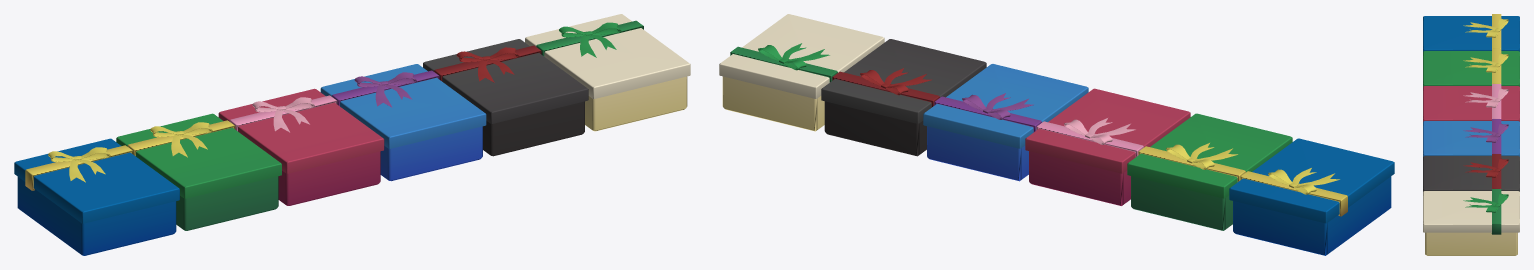
File: Playtime_Product_Box_Model.fbx
3 views of the same model, side by side, from view 1: azimuth 30°, elevation 25°; view 2: azimuth 150°, elevation 25°; view 3: azimuth 270°, elevation 25° (orthographic). The views are drawn at different scales.
Visible parts, largest first — view 1: Product_Bow (×6), Box (×6); view 2: Product_Bow (×6), Box (×6); view 3: Product_Bow (×6), Box.
Part boxes in pixels (bbox=[...]): Product_Bow (×6): bbox=[14, 14, 690, 223]; Box (×6): bbox=[17, 76, 687, 255]; Product_Bow (×6): bbox=[719, 14, 1394, 223]; Box (×6): bbox=[722, 76, 1391, 255]; Product_Bow (×6): bbox=[1423, 14, 1519, 234]; Box: bbox=[1425, 232, 1517, 255].
Size of the model in its own units: 82.23 by 7.24 by 16.07.
